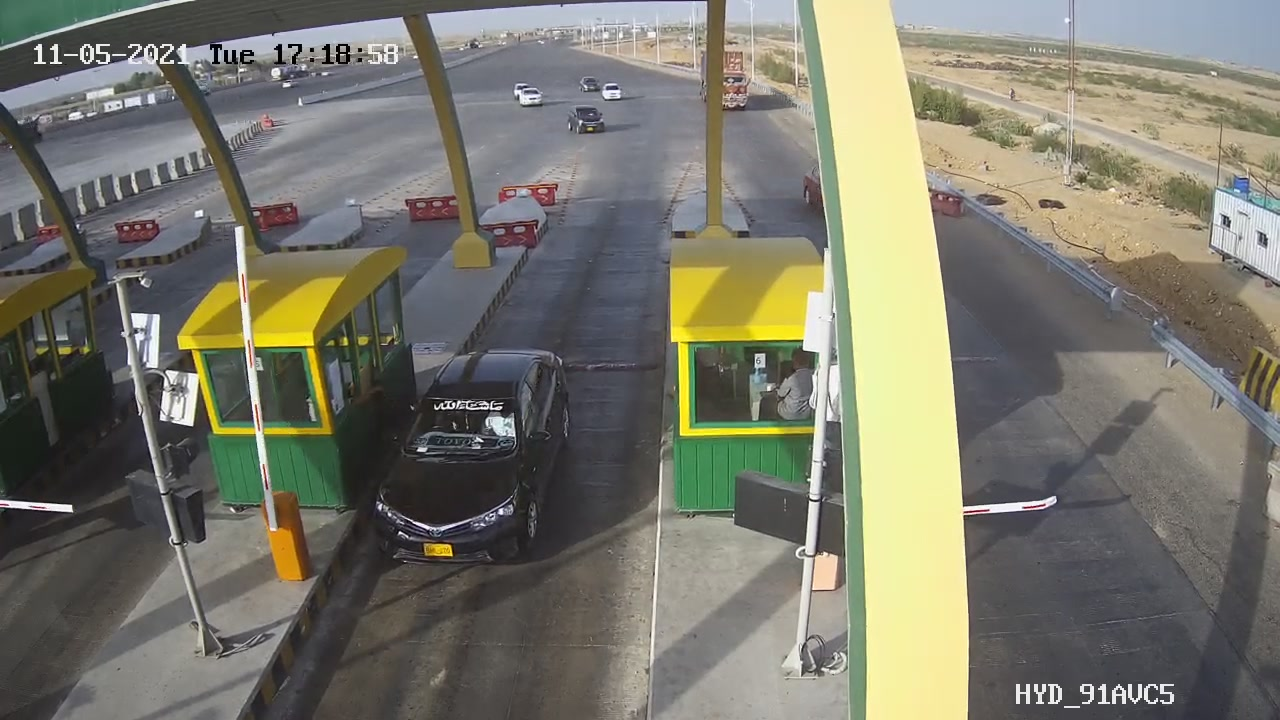F1: (355, 327, 596, 587)
